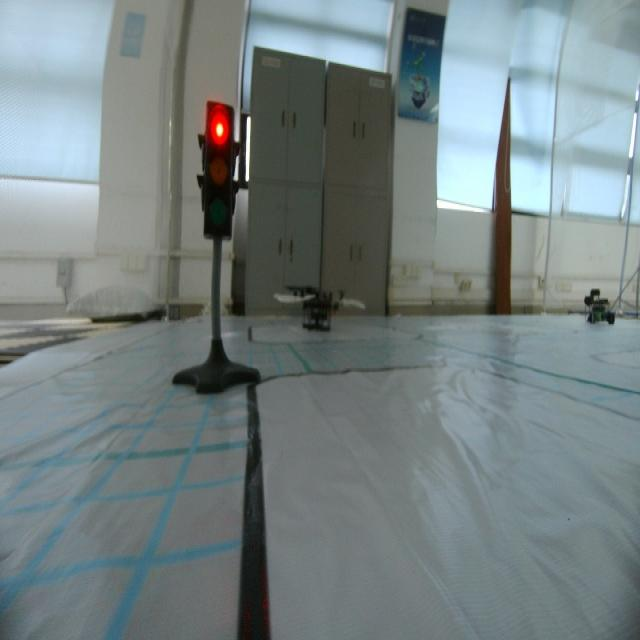red: (200, 93, 240, 246)
